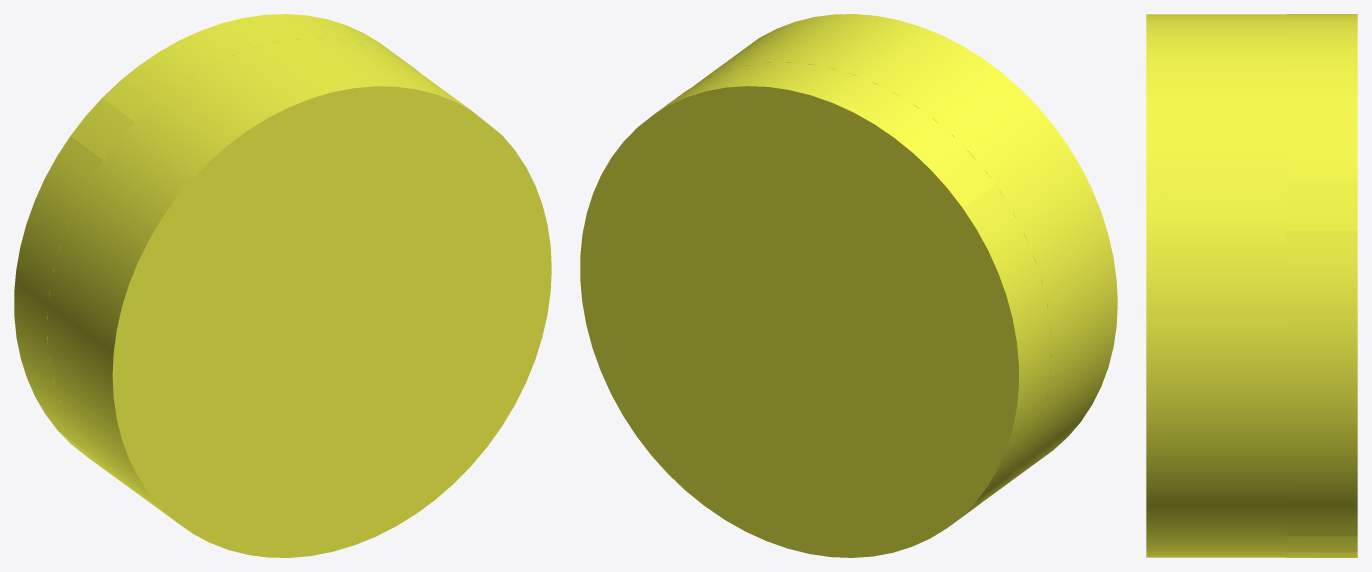
The model's file is outlet_plug_assembly.obj.
3 views of the same model, side by side, from view 1: azimuth 30°, elevation 25°; view 2: azimuth 150°, elevation 25°; view 3: azimuth 270°, elevation 25° (orthographic). The views are drawn at different scales.
Parts seen in each view (by area): view 1: plug06_IDP06, plug01_IDP01, cap05_IDC05, cap03_IDC03; view 2: cap05_IDC05, plug01_IDP01, cap03_IDC03; view 3: plug01_IDP01, cap05_IDC05, cap04_IDC04, cap01_IDC01.
Boxes of the visible parts, x1,y1,x2,y2 form: plug06_IDP06: [112, 86, 551, 557]; plug01_IDP01: [46, 38, 469, 520]; cap05_IDC05: [14, 14, 417, 480]; cap03_IDC03: [70, 98, 134, 159]; cap05_IDC05: [580, 62, 1051, 557]; plug01_IDP01: [694, 14, 1117, 496]; cap03_IDC03: [931, 146, 995, 207]; plug01_IDP01: [1146, 14, 1287, 557]; cap05_IDC05: [1286, 14, 1357, 557]; cap04_IDC04: [1286, 179, 1357, 230]; cap01_IDC01: [1286, 536, 1357, 552].
Bounding box in the file's own units: 0.96 × 0.96 × 0.3735.
